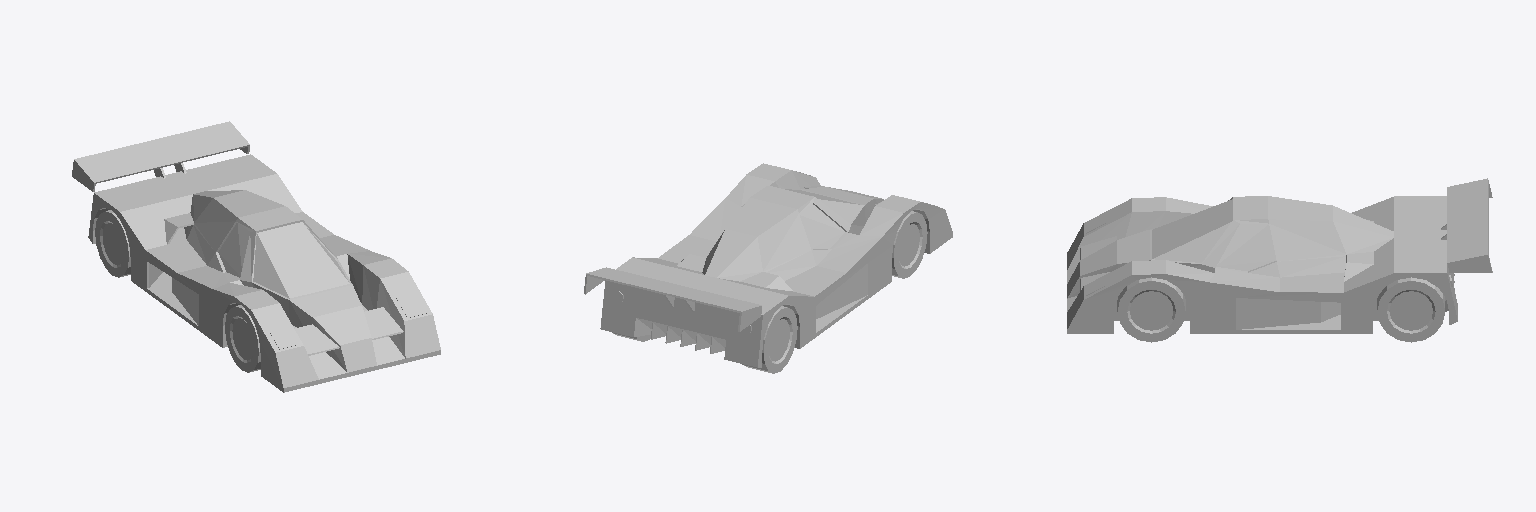
File: car_groupc_2.obj
3 views of the same model, side by side, from view 1: azimuth 30°, elevation 25°; view 2: azimuth 150°, elevation 25°; view 3: azimuth 270°, elevation 25° (orthographic).
Parts seen in each view (by area): view 1: g car-groupc-2-white_Cube.918_white, g car-groupc-2-white_Cube.918_windows, g car-groupc-2-white_Cube.918_black.gloss, g car-groupc-2-white_Cube.918_tires, g car-groupc-2-white_Cube.918_metal, g car-groupc-2-white_Cube.918_lights; view 2: g car-groupc-2-white_Cube.918_white, g car-groupc-2-white_Cube.918_tires, g car-groupc-2-white_Cube.918_black.gloss, g car-groupc-2-white_Cube.918_windows, g car-groupc-2-white_Cube.918_metal.black, g car-groupc-2-white_Cube.918_metal; view 3: g car-groupc-2-white_Cube.918_white, g car-groupc-2-white_Cube.918_windows, g car-groupc-2-white_Cube.918_tires, g car-groupc-2-white_Cube.918_black.gloss, g car-groupc-2-white_Cube.918_metal, g car-groupc-2-white_Cube.918_lights.
Boxes of the visible parts, x1=… form: g car-groupc-2-white_Cube.918_white: x1=72, y1=146, x2=440, y2=392; g car-groupc-2-white_Cube.918_windows: x1=218, y1=222, x2=349, y2=298; g car-groupc-2-white_Cube.918_black.gloss: x1=74, y1=121, x2=249, y2=183; g car-groupc-2-white_Cube.918_tires: x1=95, y1=210, x2=260, y2=372; g car-groupc-2-white_Cube.918_metal: x1=103, y1=223, x2=253, y2=360; g car-groupc-2-white_Cube.918_lights: x1=267, y1=290, x2=426, y2=349; g car-groupc-2-white_Cube.918_white: x1=584, y1=163, x2=952, y2=367; g car-groupc-2-white_Cube.918_tires: x1=612, y1=211, x2=927, y2=373; g car-groupc-2-white_Cube.918_black.gloss: x1=586, y1=267, x2=761, y2=312; g car-groupc-2-white_Cube.918_windows: x1=785, y1=189, x2=861, y2=249; g car-groupc-2-white_Cube.918_metal.black: x1=634, y1=318, x2=725, y2=353; g car-groupc-2-white_Cube.918_metal: x1=768, y1=224, x2=919, y2=361; g car-groupc-2-white_Cube.918_white: x1=1067, y1=184, x2=1492, y2=333; g car-groupc-2-white_Cube.918_windows: x1=1152, y1=199, x2=1276, y2=270; g car-groupc-2-white_Cube.918_tires: x1=1117, y1=277, x2=1444, y2=342; g car-groupc-2-white_Cube.918_black.gloss: x1=1447, y1=178, x2=1488, y2=262; g car-groupc-2-white_Cube.918_metal: x1=1130, y1=291, x2=1432, y2=330; g car-groupc-2-white_Cube.918_lights: x1=1085, y1=211, x2=1111, y2=295.
Size of the model in its own units: 0.96 by 0.5631 by 2.25.